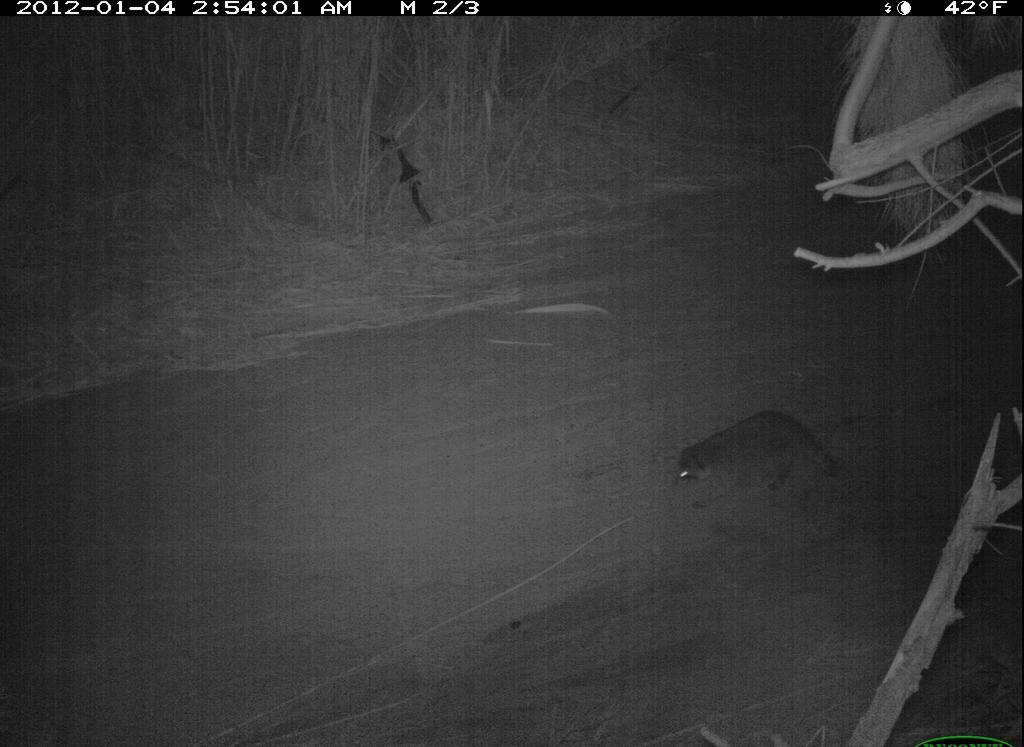raccoon: (671, 408, 844, 511)
